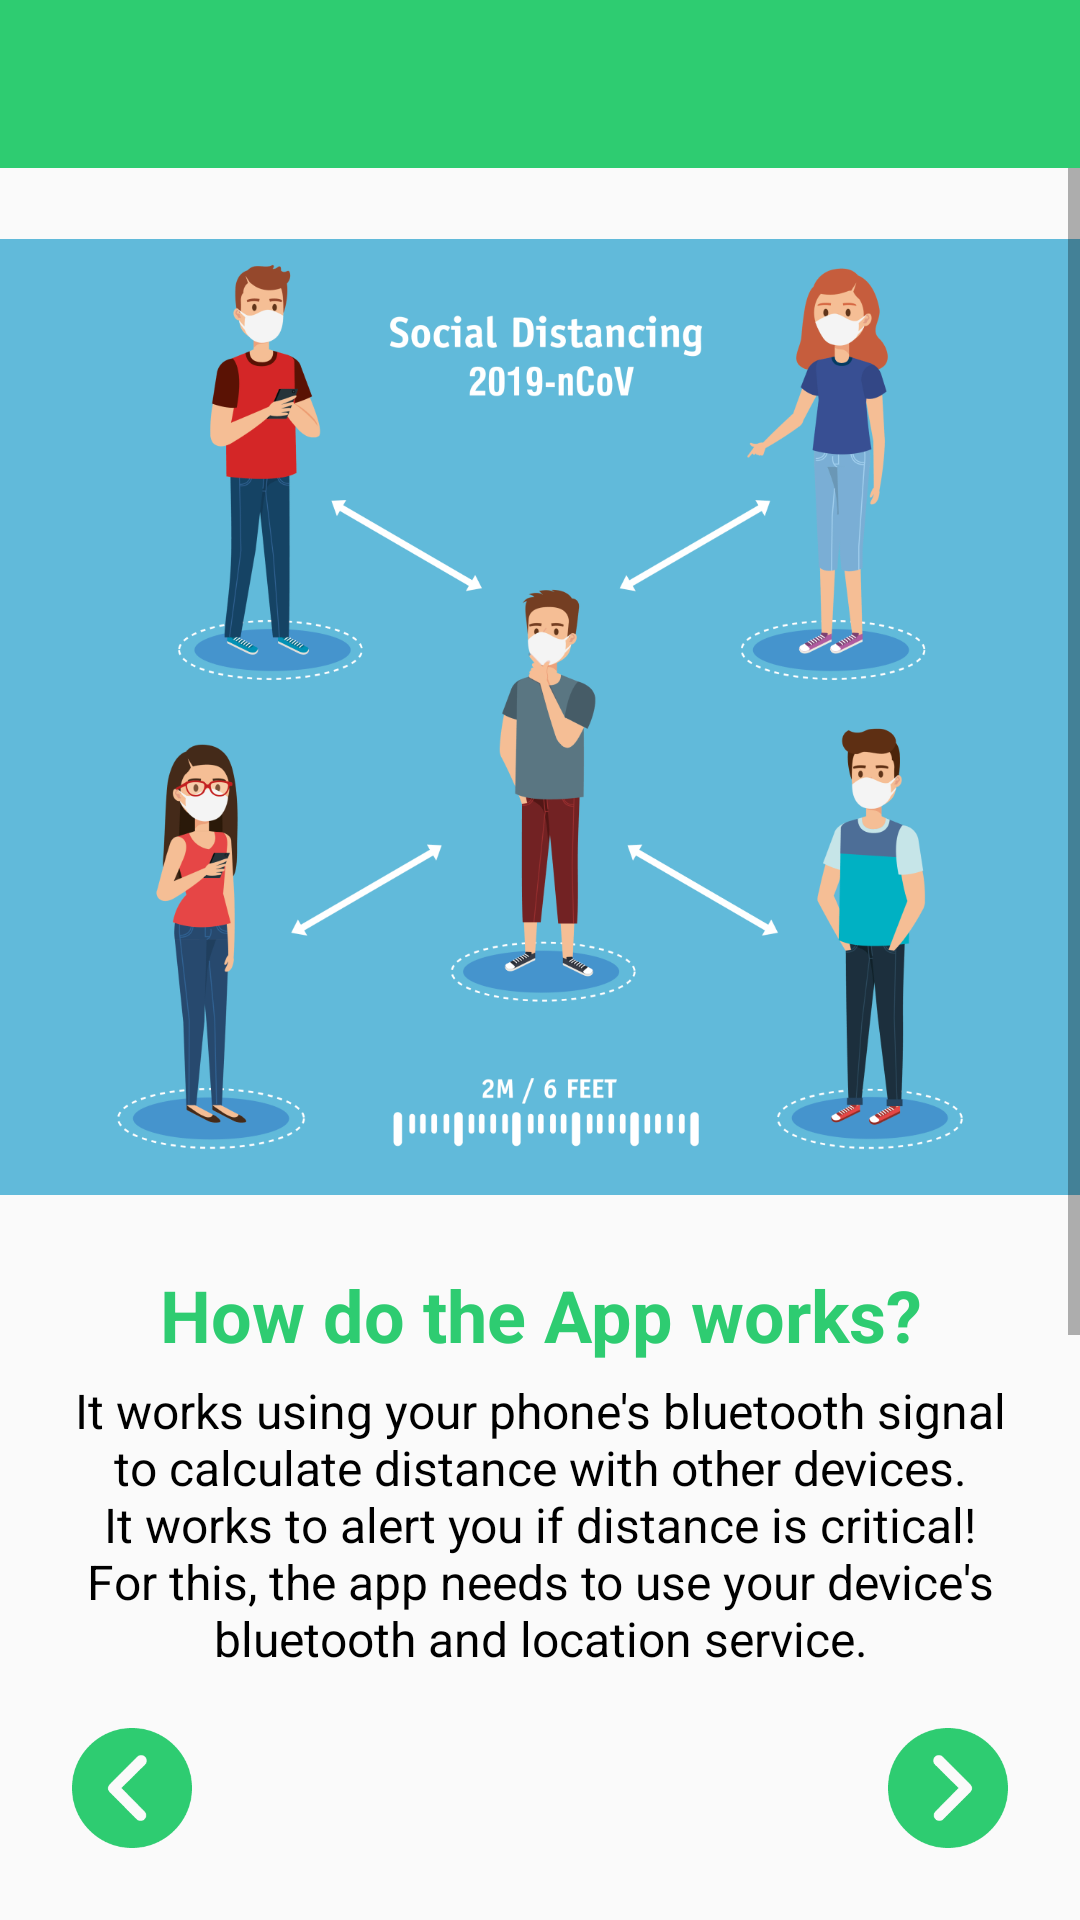

Icons on this 1080*1920 Android screen, each with the point to tap as (x=x, y=y):
arrow circle left: (x=132, y=1788)
arrow circle right: (x=948, y=1788)
